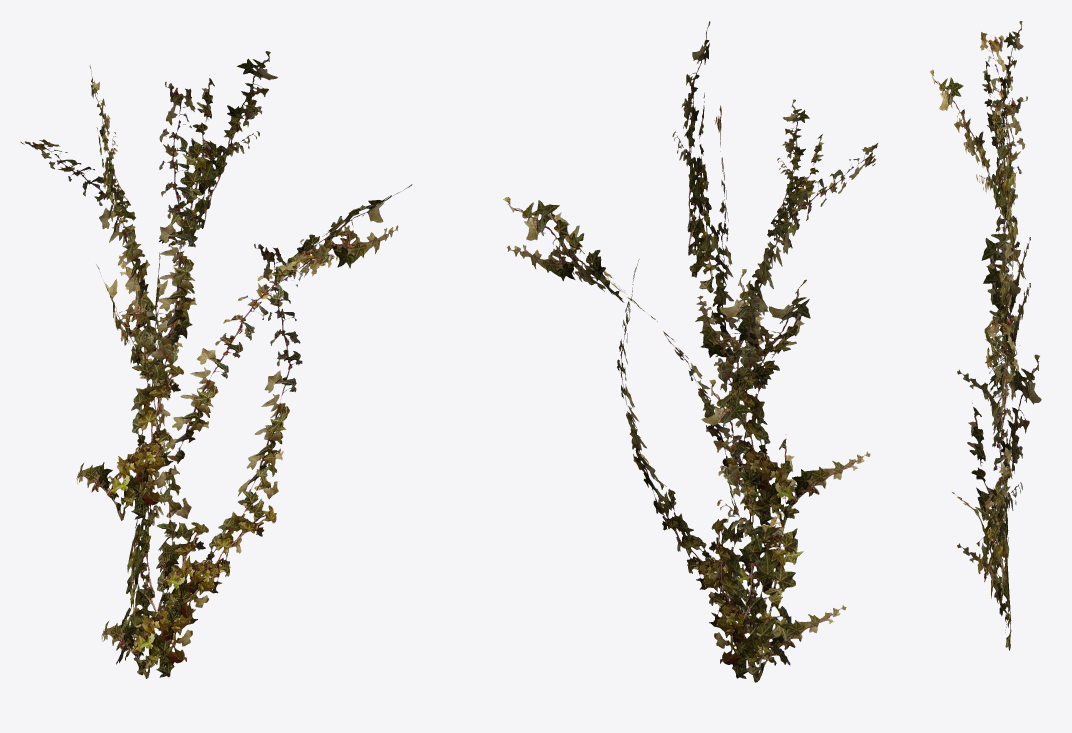
The model's file is ivy22_lod0.fbx.
The picture shows the model from 3 angles, left to right: view 1: azimuth 30°, elevation 25°; view 2: azimuth 150°, elevation 25°; view 3: azimuth 270°, elevation 25°; orthographic projection. The views are drawn at different scales.
Visible parts, largest first — view 1: Mesh Object; view 2: Mesh Object; view 3: Mesh Object.
Part boxes in pixels (box(x1,y1,x2,y2)): Mesh Object: box(20, 51, 412, 678); Mesh Object: box(503, 21, 878, 682); Mesh Object: box(930, 21, 1041, 650).
Bounding box in the file's own units: 1.84 × 2.88 × 0.5413.
